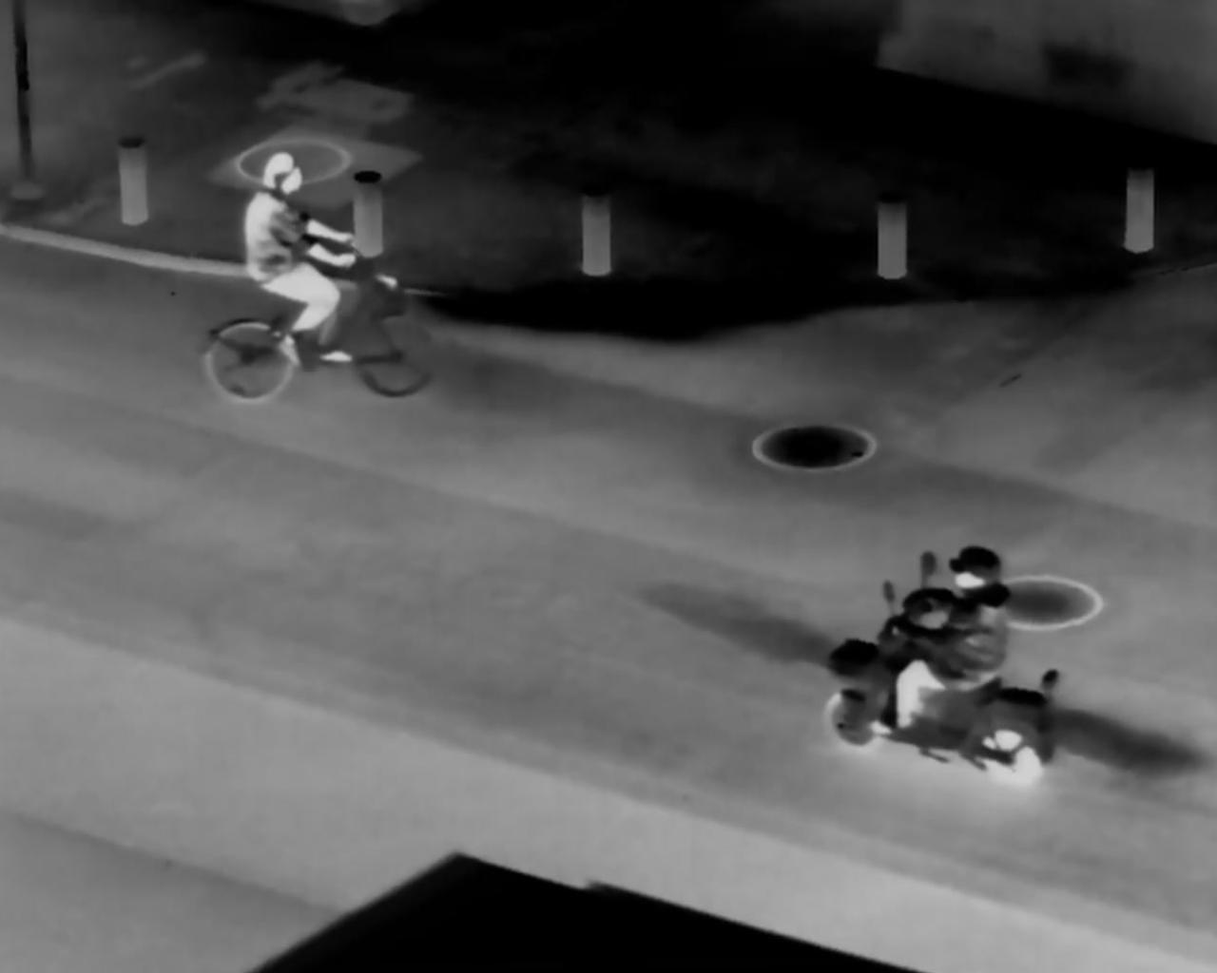person: (231, 150, 355, 367), (892, 536, 1013, 739)
